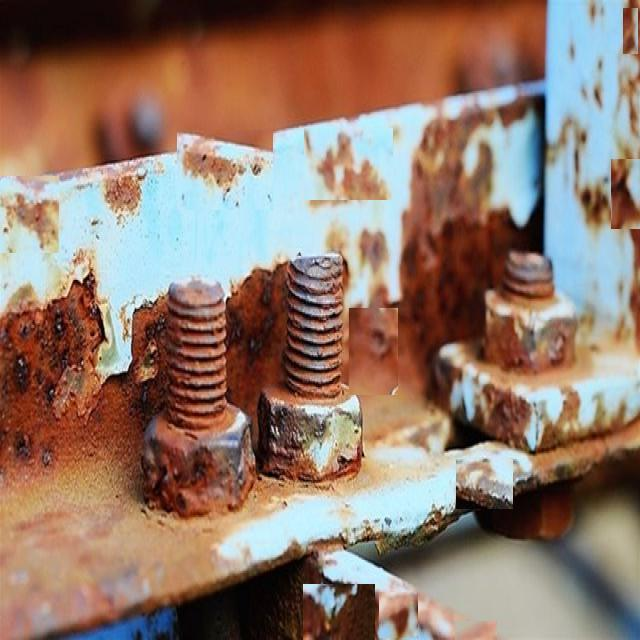Corrosion: (1, 464, 241, 640), (0, 272, 166, 482), (400, 110, 511, 392), (142, 281, 256, 518), (258, 254, 364, 482), (485, 251, 577, 372), (226, 263, 288, 436), (220, 475, 352, 522), (361, 391, 454, 455), (317, 132, 389, 202), (349, 309, 399, 396), (182, 140, 245, 192), (14, 194, 58, 250), (104, 175, 144, 214)
